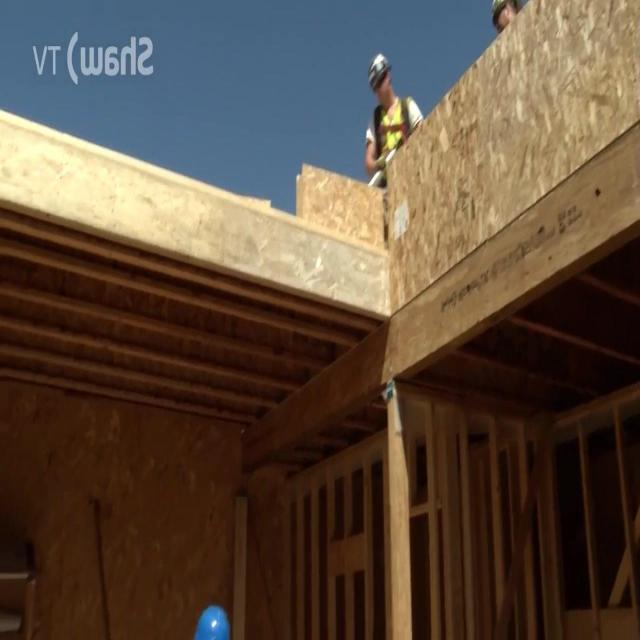Reflective-Jacket: (360, 91, 422, 185)
Safety-Helmet: (183, 594, 237, 640), (361, 44, 397, 95)
